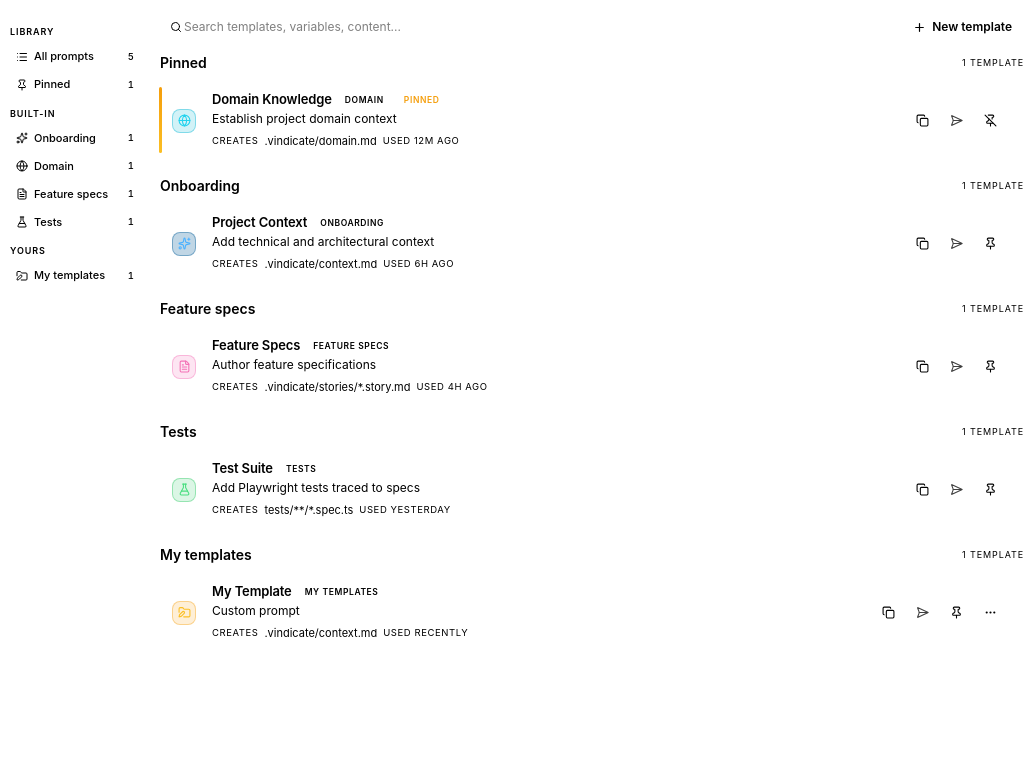
Test case: PromptsTab › filters by My templates category
Click the button "My templates 1" at (75, 276), box [8, 262, 142, 288]
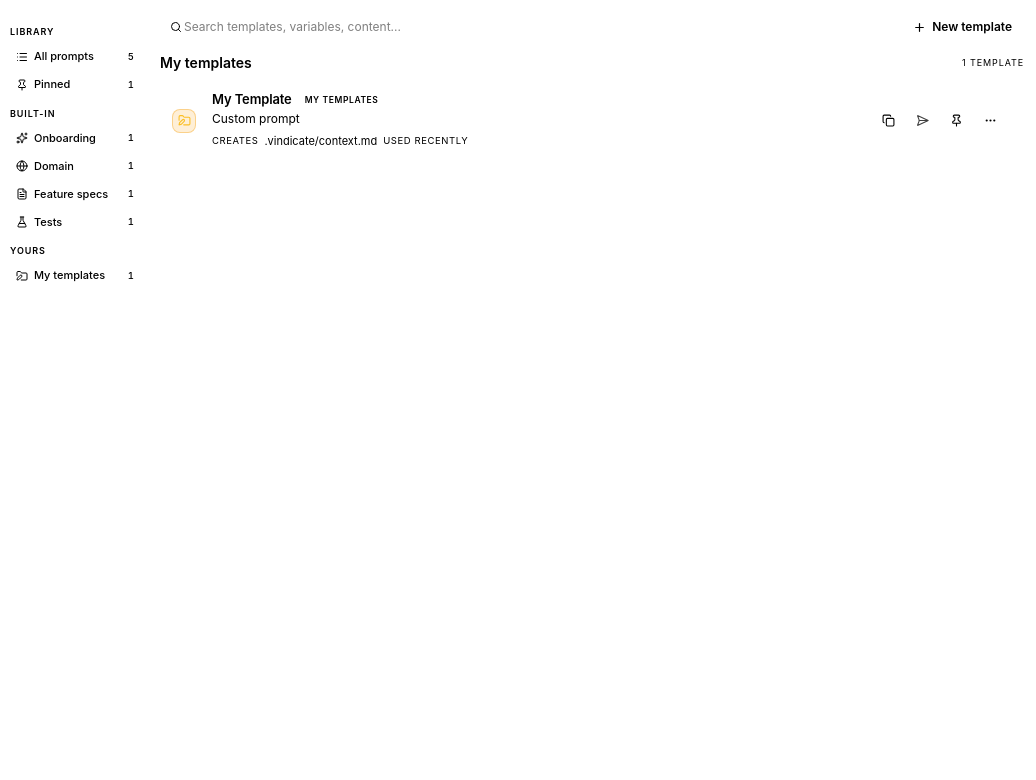
Expected: the text "My Template" is shown, [212, 92, 292, 108]
Expected: the text "Project Context" is gone
